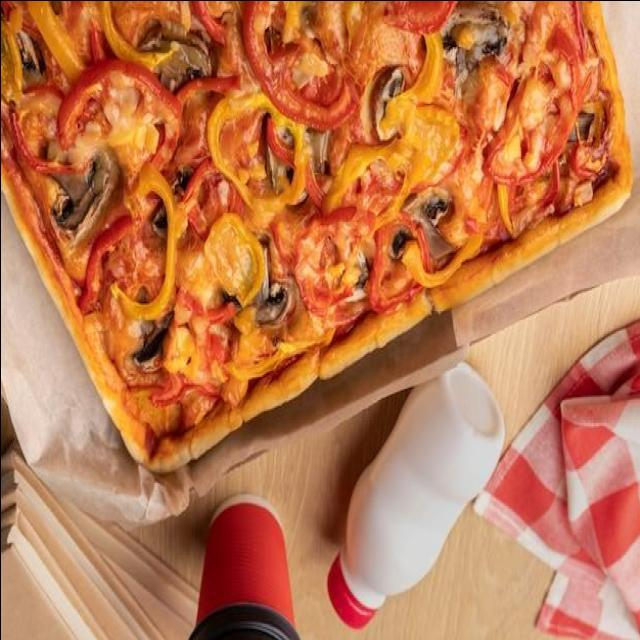pizza: (0, 0, 633, 470)
